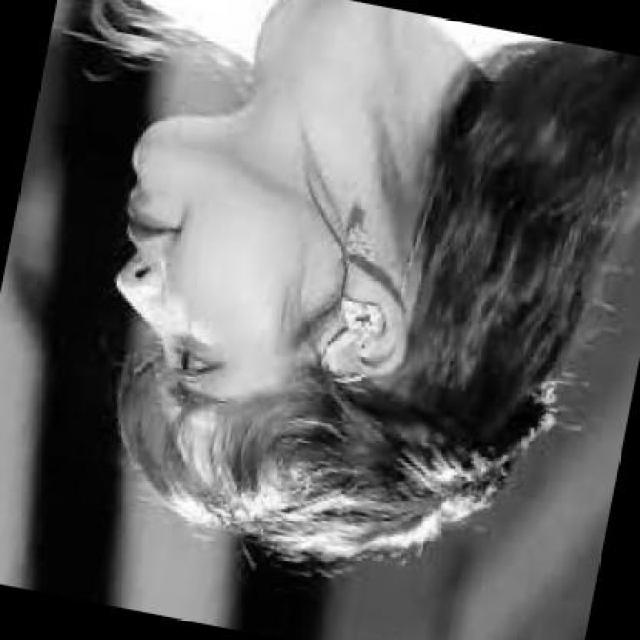earphone: (335, 280, 406, 354)
